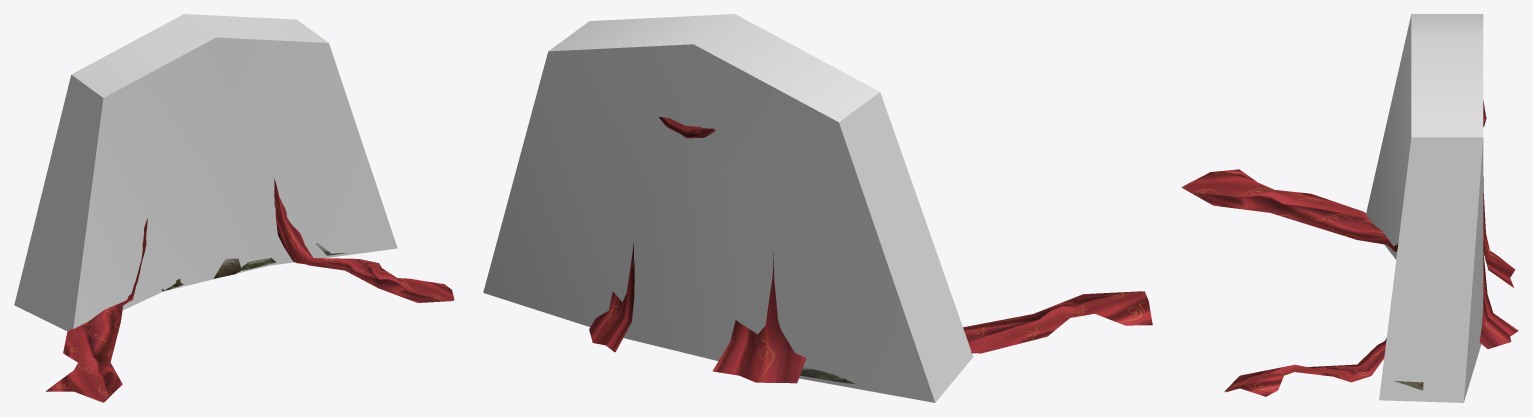
File: Scene_Build_HuanYinFang_PingFeng_1.FBX
3 views of the same model, side by side, from view 1: azimuth 30°, elevation 25°; view 2: azimuth 150°, elevation 25°; view 3: azimuth 270°, elevation 25° (orthographic). The views are drawn at different scales.
Visible parts, largest first — view 1: Scene_Build_HuanYinFang_PingFeng_1_Xzm, Scene_Build_HuanYinFang_PingFeng_1a; view 2: Scene_Build_HuanYinFang_PingFeng_1_Xzm, Scene_Build_HuanYinFang_PingFeng_1a; view 3: Scene_Build_HuanYinFang_PingFeng_1_Xzm, Scene_Build_HuanYinFang_PingFeng_1a.
Part boxes in pixels (x1=…): Scene_Build_HuanYinFang_PingFeng_1_Xzm: x1=14, y1=14, x2=397, y2=331; Scene_Build_HuanYinFang_PingFeng_1a: x1=46, y1=178, x2=454, y2=402; Scene_Build_HuanYinFang_PingFeng_1_Xzm: x1=483, y1=14, x2=973, y2=402; Scene_Build_HuanYinFang_PingFeng_1a: x1=589, y1=117, x2=1152, y2=383; Scene_Build_HuanYinFang_PingFeng_1_Xzm: x1=1366, y1=14, x2=1483, y2=402; Scene_Build_HuanYinFang_PingFeng_1a: x1=1181, y1=100, x2=1518, y2=396.
Bounding box in the file's own units: 3038 × 1670 × 1891.
